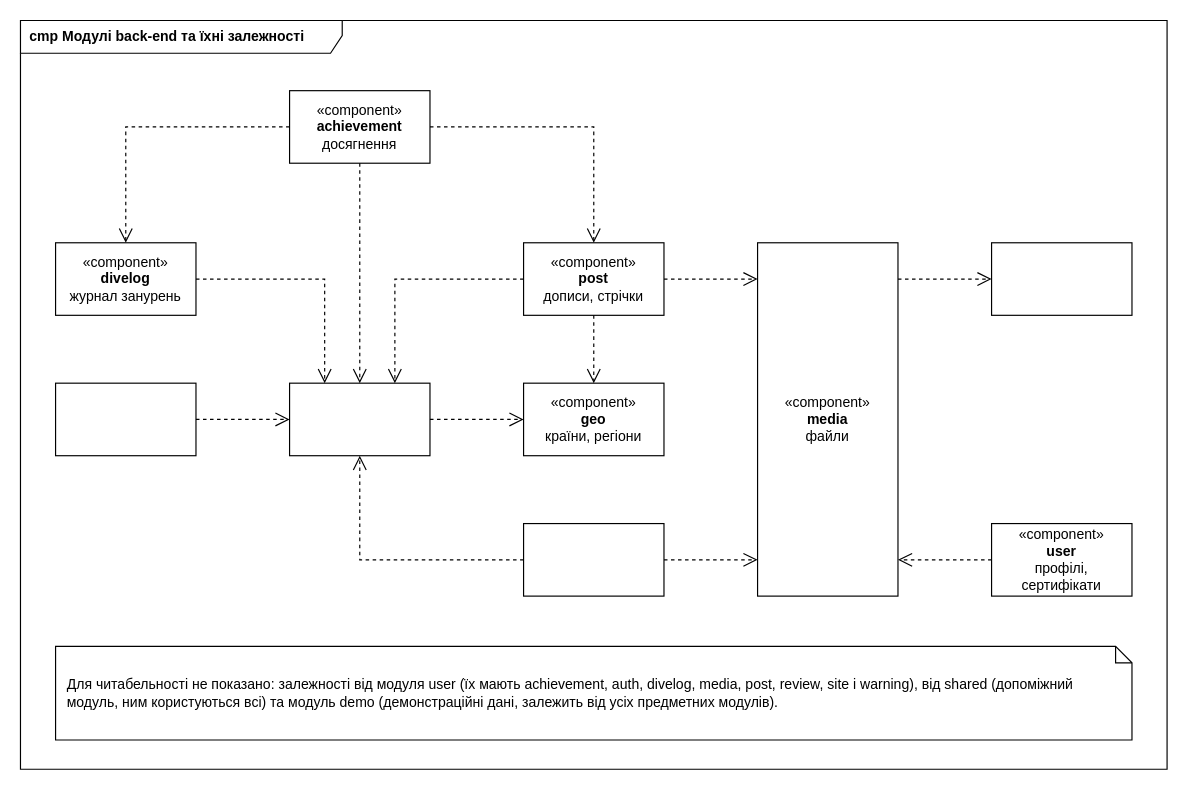
Some shapes in this 1188 by 790 pixel diagram are drawn without their labels. Each missing label, with the centre of its shape:
«component» auth вхід, токени: point 1061,278
«component» review відгуки, оцінки: point 593,559
«component» site дайв-сайти: point 359,419
«component» warning попередження: point 125,419
